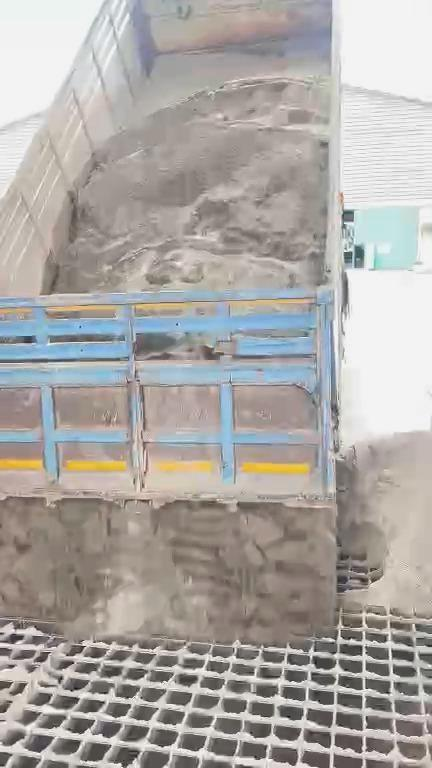sand: (53, 77, 328, 291), (1, 502, 335, 644), (339, 432, 432, 614)
